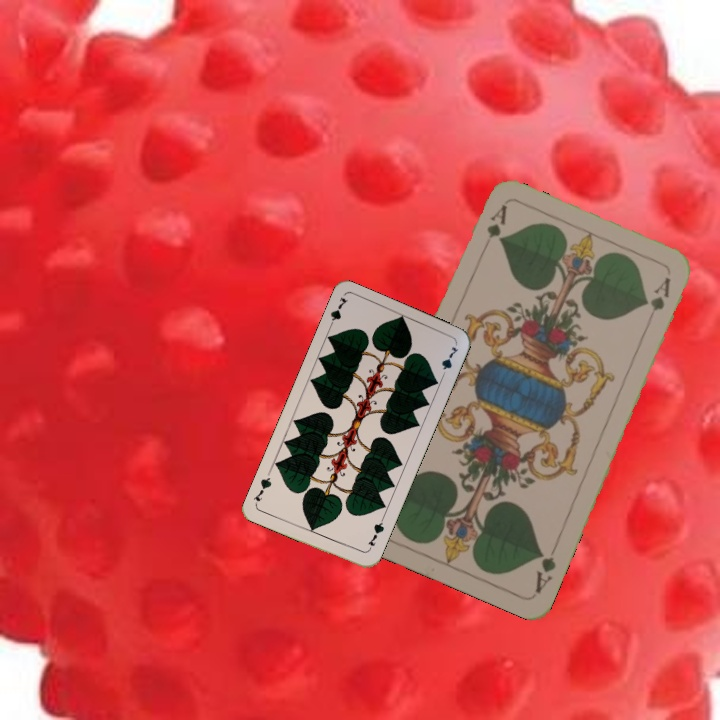G7: (325, 293, 350, 332), (363, 515, 387, 554)
GA: (531, 545, 559, 596), (482, 201, 510, 241)
